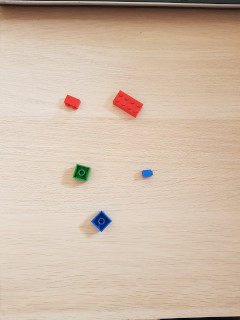1x1 blue: (142, 169, 154, 178)
1x2 red: (64, 95, 82, 110)
2x2 blue: (90, 211, 113, 235)
2x2 green: (72, 163, 90, 182)
2x4 red: (112, 89, 142, 119)
